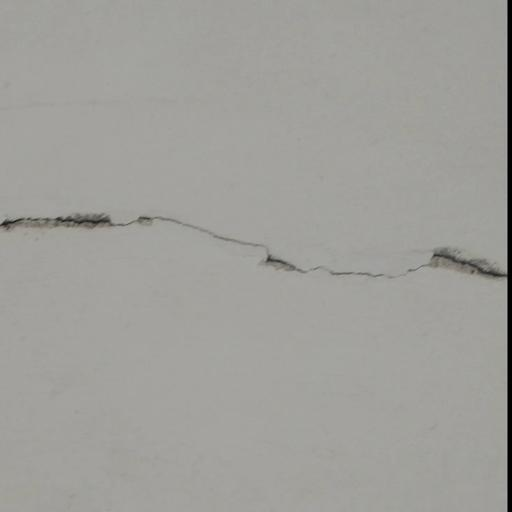major_crack: (0, 191, 508, 289)
